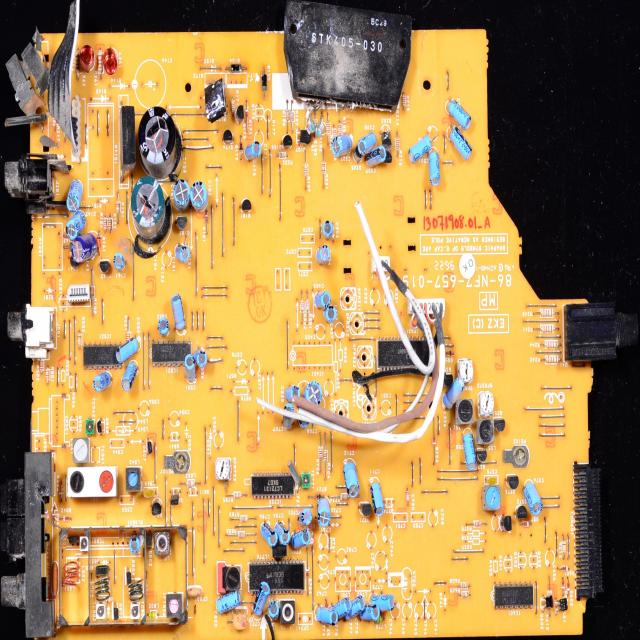Capacitor Jumper: (130, 176, 168, 238), (447, 127, 473, 167), (444, 93, 473, 127), (405, 134, 435, 166), (70, 231, 98, 264), (368, 478, 390, 519), (461, 430, 480, 474), (342, 455, 360, 501), (64, 211, 88, 243), (523, 478, 543, 515), (356, 128, 378, 161), (304, 376, 324, 412), (444, 376, 464, 411), (423, 150, 443, 185), (215, 591, 244, 615), (66, 174, 83, 214), (314, 495, 334, 528), (332, 130, 350, 166), (312, 606, 341, 628), (174, 178, 192, 213), (362, 600, 385, 627), (253, 583, 270, 618), (118, 334, 138, 363), (259, 519, 278, 549), (291, 527, 312, 554), (370, 146, 391, 173), (191, 172, 205, 212), (171, 290, 185, 330), (120, 361, 138, 392), (374, 588, 393, 616), (278, 402, 298, 428), (245, 138, 262, 168), (296, 404, 314, 432), (314, 242, 334, 267), (274, 518, 291, 547), (181, 353, 197, 383), (194, 344, 212, 370), (92, 367, 110, 393), (286, 378, 304, 404), (338, 595, 353, 626), (312, 287, 330, 312), (155, 312, 171, 340), (350, 595, 366, 621), (174, 242, 192, 264), (323, 216, 338, 241), (323, 302, 338, 324), (113, 248, 126, 273), (186, 584, 204, 600), (298, 509, 313, 527), (267, 601, 282, 619), (129, 534, 141, 554)
IC: (378, 334, 440, 378), (489, 579, 540, 609), (250, 564, 309, 588), (250, 473, 294, 498)
Resistor Jumper: (543, 352, 560, 367), (541, 338, 559, 351), (540, 324, 556, 336), (305, 119, 316, 135), (538, 308, 554, 319), (316, 443, 326, 460), (316, 120, 326, 137), (229, 96, 237, 115), (114, 200, 123, 216), (238, 511, 249, 524), (44, 366, 51, 385), (277, 149, 288, 161), (38, 357, 46, 373), (231, 490, 241, 502), (460, 580, 470, 592), (547, 587, 553, 607), (329, 126, 337, 141), (125, 328, 131, 348), (459, 589, 470, 599), (76, 333, 83, 348), (320, 161, 328, 174), (323, 448, 329, 465), (235, 532, 246, 541), (102, 218, 109, 232), (290, 107, 296, 123), (325, 119, 331, 135), (284, 108, 290, 123), (303, 162, 309, 177), (108, 215, 113, 232), (472, 520, 482, 528)
Transistor: (138, 100, 172, 168)
